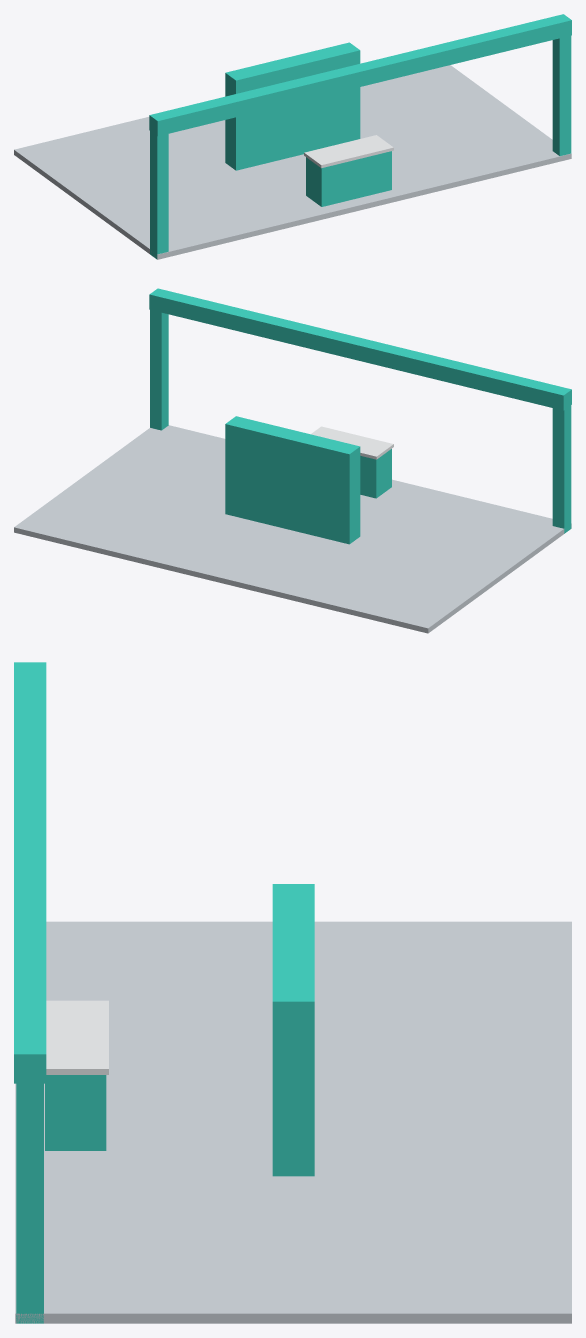
3 renders of one model, top to bottom at view 1: azimuth 30°, elevation 25°; view 2: azimuth 150°, elevation 25°; view 3: azimuth 270°, elevation 25°, orthographic. The views are drawn at different scales.
Visible parts, largest first — view 1: Exhibition Booth Concept; view 2: Exhibition Booth Concept; view 3: Exhibition Booth Concept.
Boxes of the visible parts, box(x1,y1,x2,y2) form: Exhibition Booth Concept: box(14, 14, 571, 259); Exhibition Booth Concept: box(14, 288, 571, 633); Exhibition Booth Concept: box(14, 662, 571, 1323).
Bounding box in the file's own units: 10 × 3.2 × 6.02.
